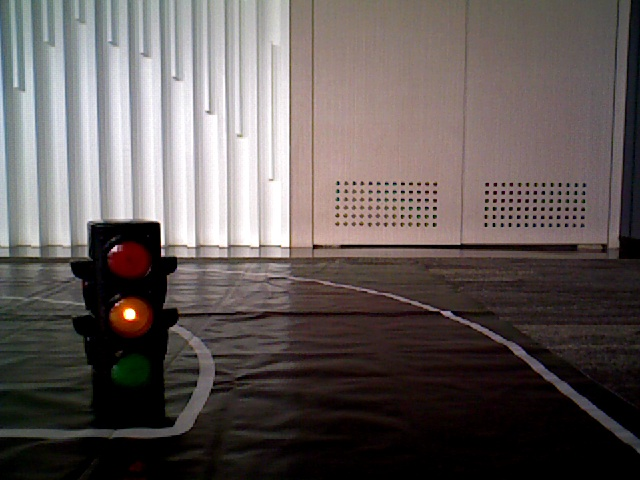yellow: (90, 226, 163, 408)
